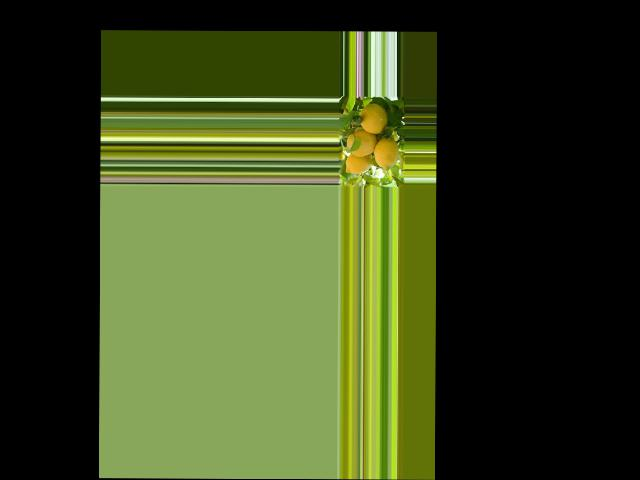lemon: (356, 102, 388, 134)
